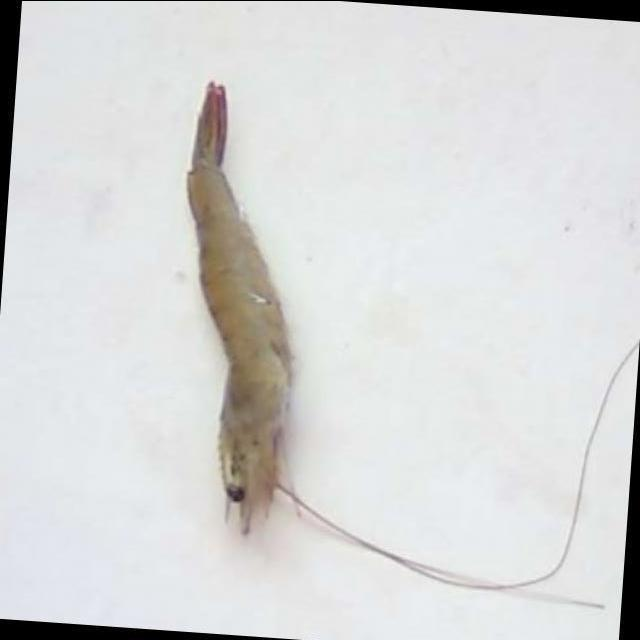shrimp: (187, 82, 291, 536)
